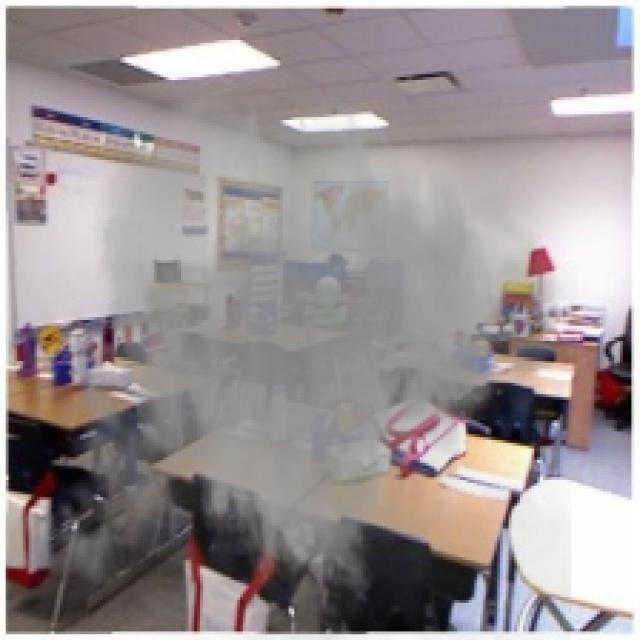smoke: (37, 86, 574, 637)
